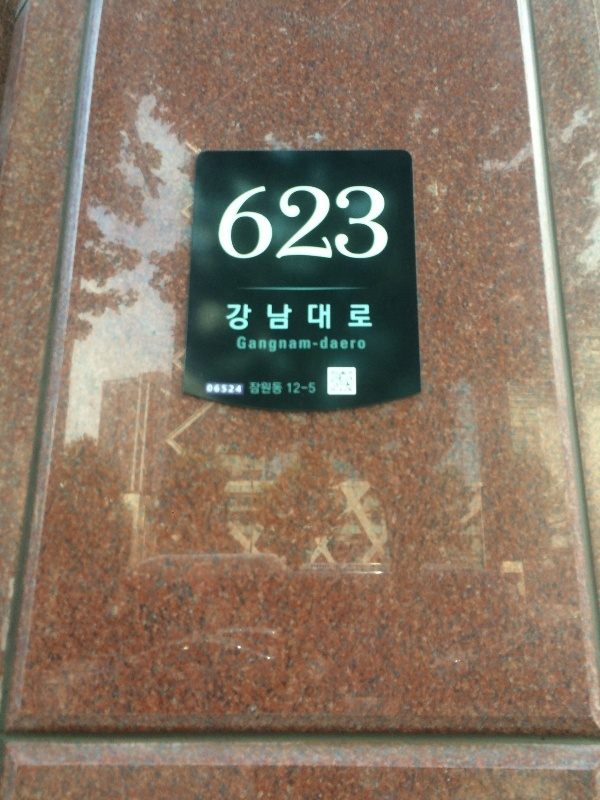text: (241, 182, 256, 266), (257, 182, 272, 266), (273, 182, 288, 266), (289, 182, 304, 266), (305, 182, 320, 266), (321, 182, 336, 266), (337, 182, 352, 266), (353, 182, 368, 266), (369, 182, 384, 266), (226, 182, 240, 266), (241, 301, 256, 334), (257, 301, 272, 334), (273, 301, 288, 334), (289, 301, 304, 334), (305, 301, 320, 334), (321, 301, 336, 334), (337, 301, 352, 334), (353, 301, 368, 334), (226, 301, 240, 334), (385, 182, 389, 266), (241, 336, 256, 354), (257, 336, 272, 354), (273, 336, 288, 354), (289, 336, 304, 354), (321, 336, 336, 352), (337, 336, 352, 352), (257, 381, 272, 397), (289, 382, 304, 396), (353, 336, 366, 352), (209, 383, 224, 395), (225, 383, 240, 395), (273, 381, 284, 397), (305, 382, 317, 396), (369, 301, 374, 334), (249, 381, 256, 397), (305, 336, 311, 354), (237, 336, 240, 354), (312, 342, 320, 347), (287, 382, 288, 396), (207, 383, 208, 395), (241, 383, 242, 395)
